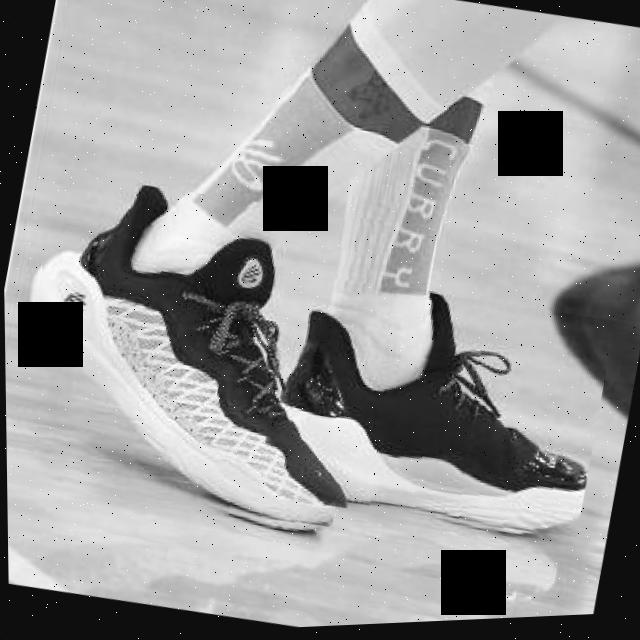shoe: (2, 161, 389, 550), (242, 263, 617, 562)
